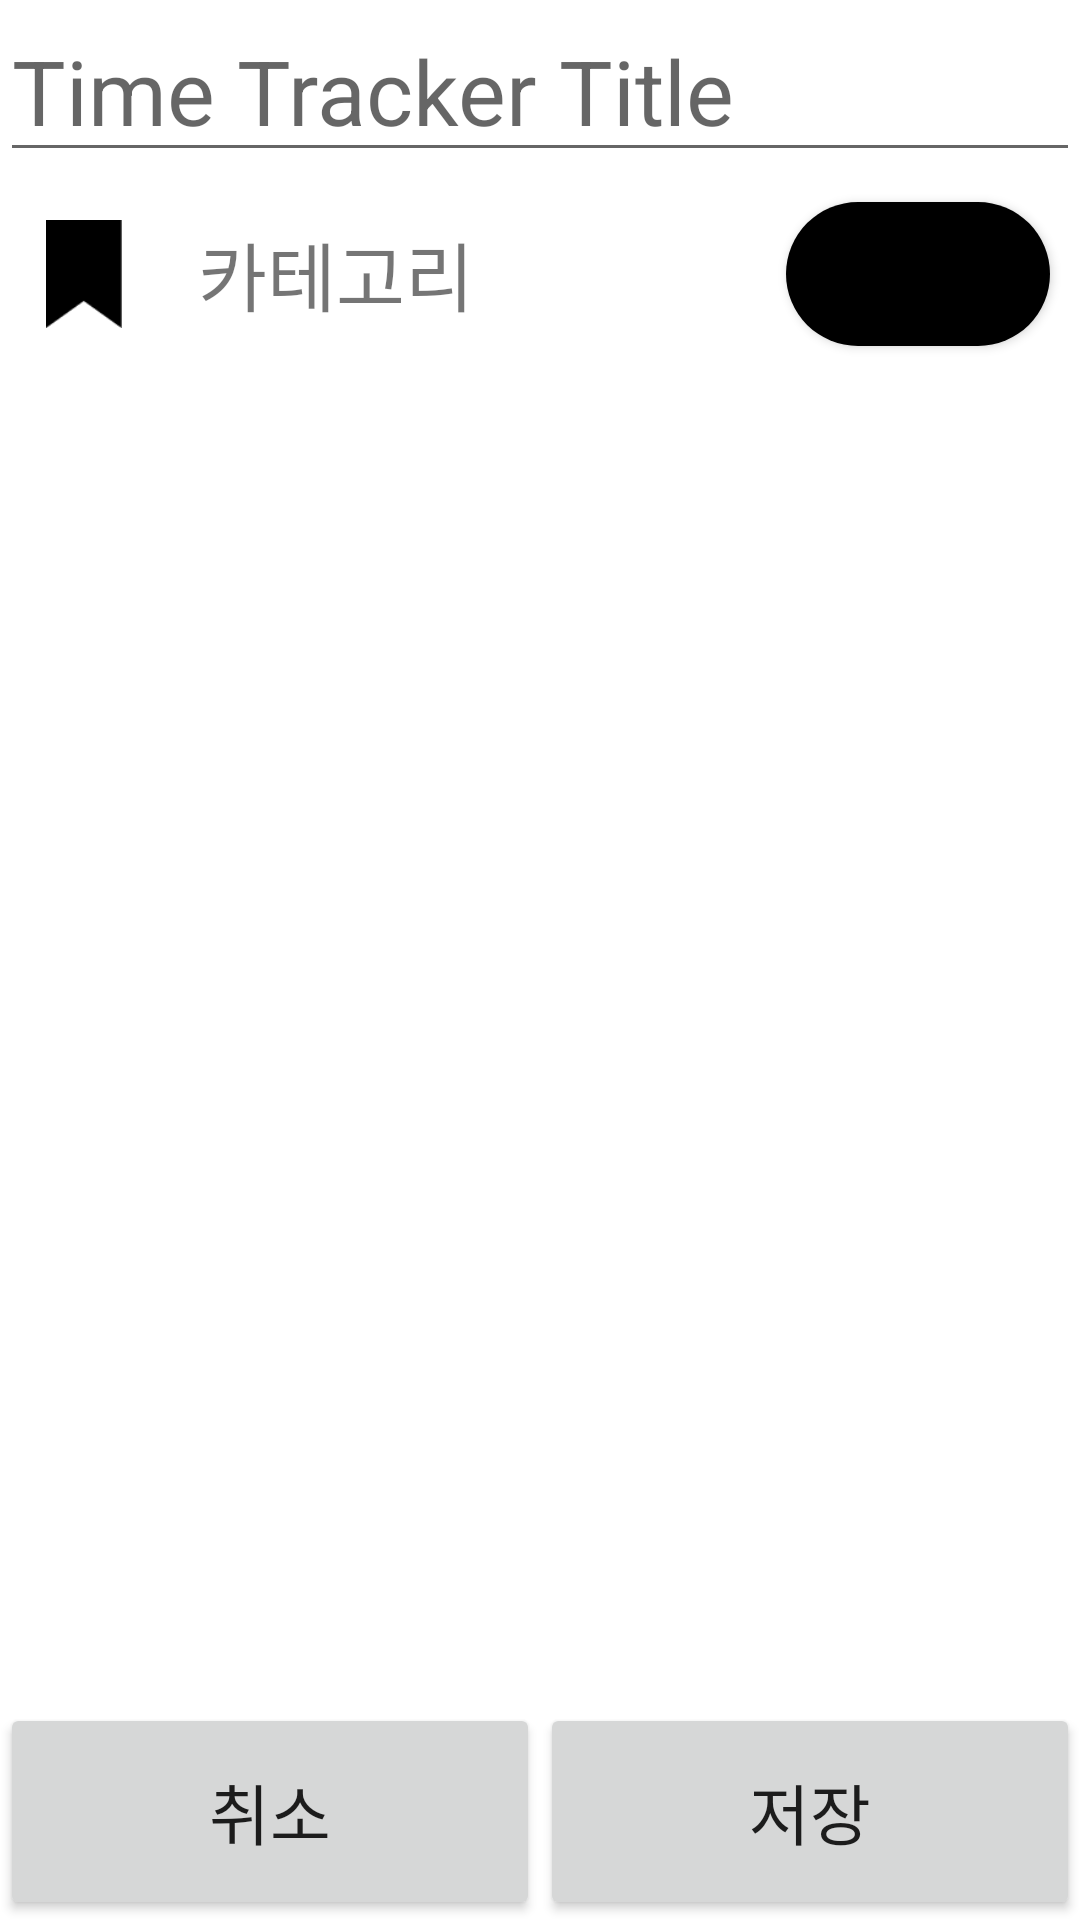

Where to tap for icons on this 1080 x 1920 app screen, as (x=x, y=y):
bookmark: (x=84, y=274)
